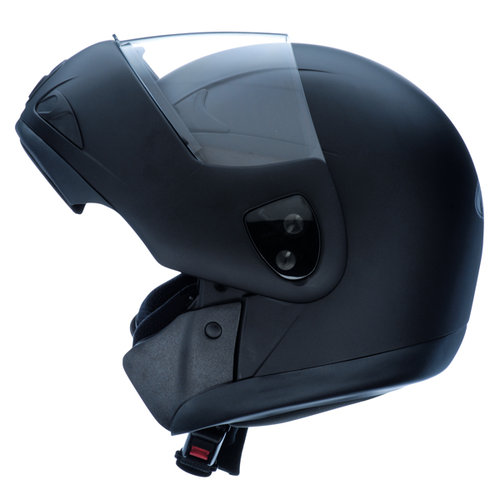helmet: (66, 49, 485, 411)
